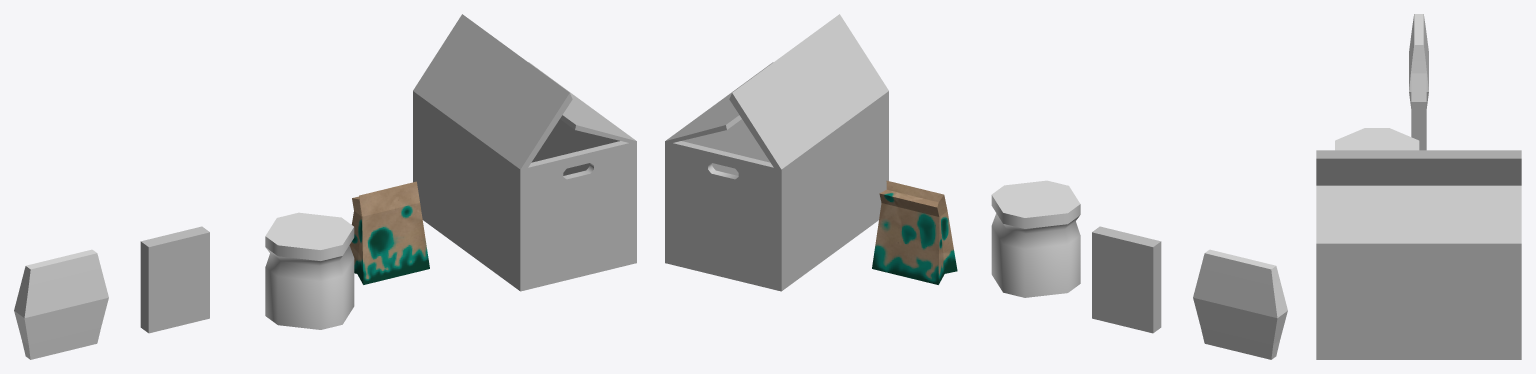
File: PropsForRacks.fbx
3 views of the same model, side by side, from view 1: azimuth 30°, elevation 25°; view 2: azimuth 150°, elevation 25°; view 3: azimuth 270°, elevation 25° (orthographic). The views are drawn at different scales.
Visible parts, largest first — view 1: Box, jar, Boxsnek, flakes, Bag; view 2: Box, jar, Boxsnek, Bag, flakes; view 3: Box, jar, Boxsnek, flakes.
Boxes of the visible parts, x1,y1,x2,y2 form: Box: [413, 14, 636, 291]; jar: [265, 212, 354, 329]; Boxsnek: [14, 249, 108, 359]; flakes: [140, 226, 209, 333]; Bag: [349, 181, 429, 284]; Box: [665, 14, 888, 291]; jar: [991, 180, 1080, 297]; Boxsnek: [1193, 249, 1287, 359]; Bag: [872, 180, 957, 284]; flakes: [1092, 226, 1161, 333]; Box: [1316, 150, 1521, 359]; jar: [1335, 128, 1419, 150]; Boxsnek: [1409, 14, 1428, 108]; flakes: [1411, 73, 1426, 150].
Bounding box in the file's own units: 486 × 154 × 161.
